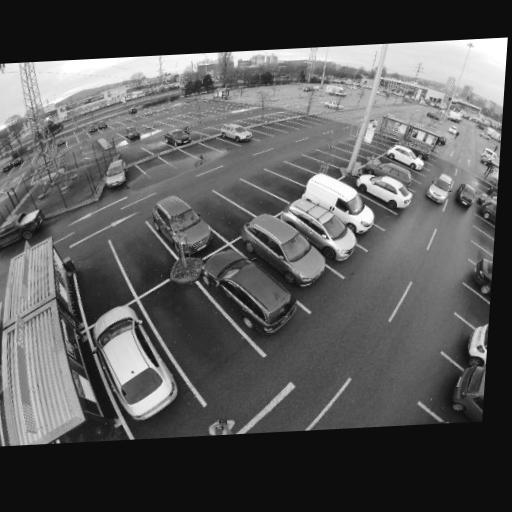busy: (85, 296, 188, 421), (202, 250, 298, 333), (239, 212, 333, 288), (283, 191, 366, 259), (296, 172, 381, 236), (148, 193, 219, 255), (444, 362, 484, 422), (355, 173, 415, 210), (364, 160, 412, 185), (423, 173, 454, 205), (102, 161, 135, 191), (386, 146, 425, 168), (218, 123, 256, 145), (455, 183, 481, 209), (165, 128, 193, 146), (123, 127, 141, 141), (323, 100, 341, 110), (330, 87, 348, 96), (97, 123, 111, 131)
free: (167, 303, 226, 350), (123, 239, 164, 268), (82, 263, 121, 291), (200, 204, 234, 225), (233, 189, 262, 206), (263, 177, 289, 191), (281, 166, 305, 178), (302, 160, 324, 172), (123, 150, 145, 161), (167, 152, 187, 161), (147, 144, 166, 153), (192, 147, 210, 156), (143, 163, 161, 172), (259, 127, 277, 135), (321, 150, 334, 161), (152, 125, 169, 133), (211, 142, 226, 149), (203, 130, 218, 137), (338, 150, 349, 159), (169, 122, 184, 128)
